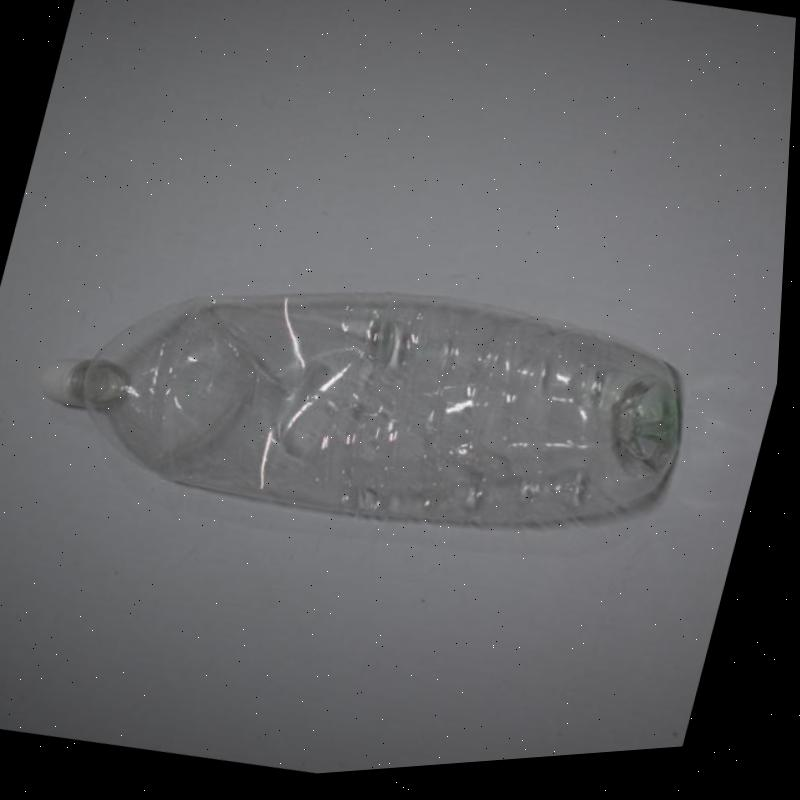botella: (16, 211, 726, 610)
